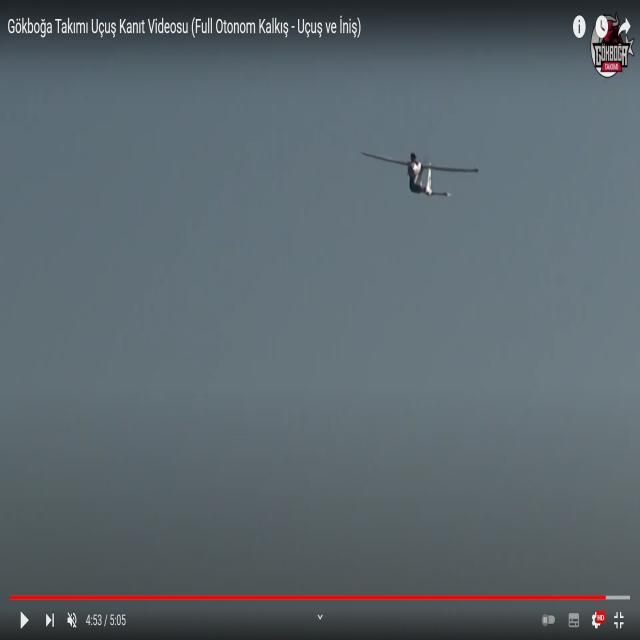iha: (394, 149, 447, 197)
